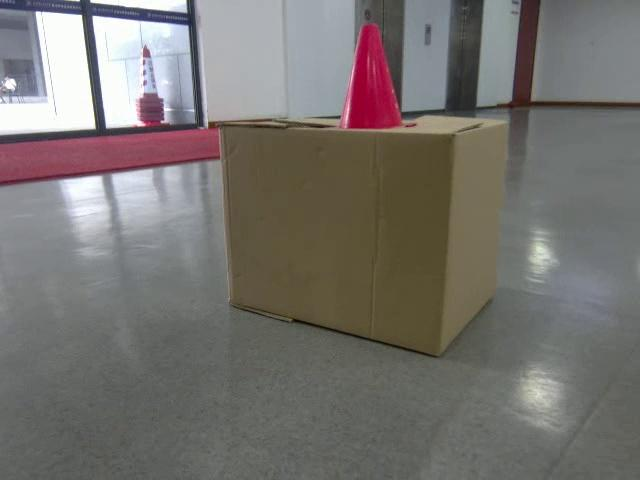red_barrel: (336, 25, 408, 127)
